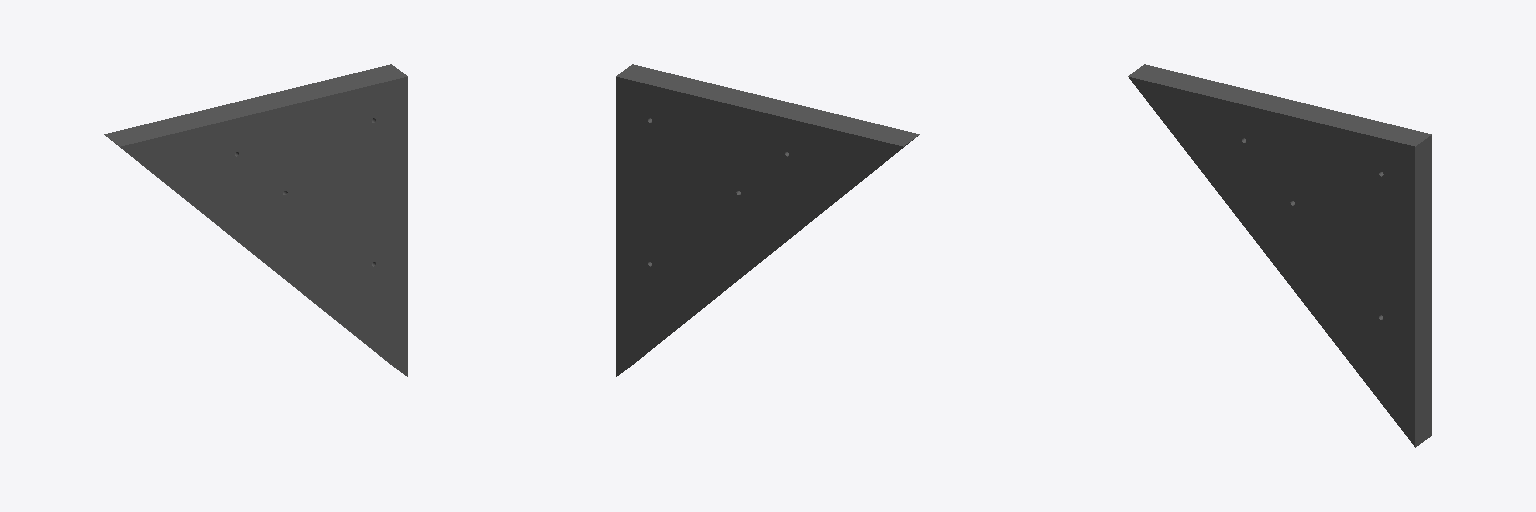
Rendered from tri1.obj.
The picture shows the model from 3 angles: view 1: azimuth 30°, elevation 25°; view 2: azimuth 150°, elevation 25°; view 3: azimuth 330°, elevation 25°; orthographic projection.
Visible parts, largest first — view 1: StainlessSteel_tri1; view 2: StainlessSteel_tri1; view 3: StainlessSteel_tri1.
Boxes of the visible parts, x1,y1,x2,y2 form: StainlessSteel_tri1: [104, 64, 407, 376]; StainlessSteel_tri1: [616, 64, 919, 376]; StainlessSteel_tri1: [1128, 64, 1431, 447].
Bounding box in the file's own units: 0.126 × 0.126 × 0.0127.